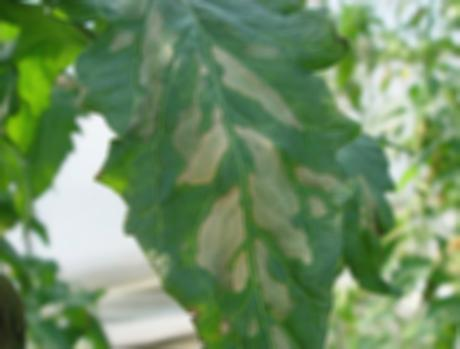Tomato leaf bacterial spot: (66, 6, 359, 346)
